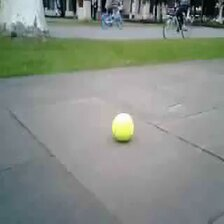tennis: (111, 112, 133, 141)
